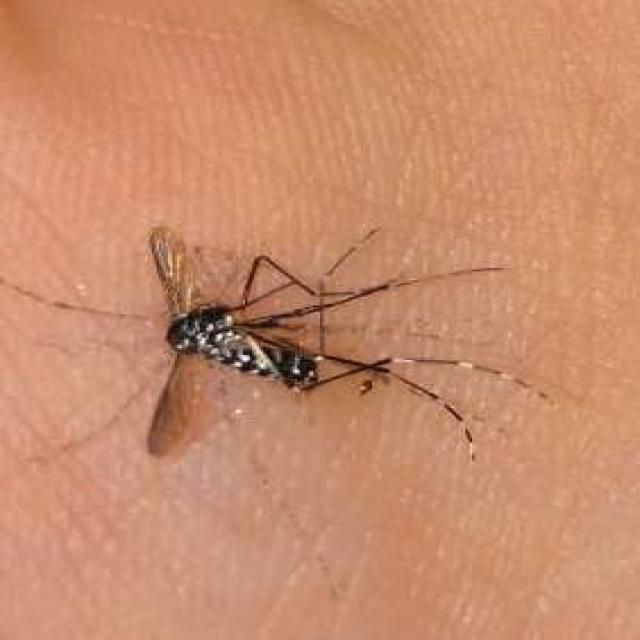albopictus: (87, 205, 568, 474)
